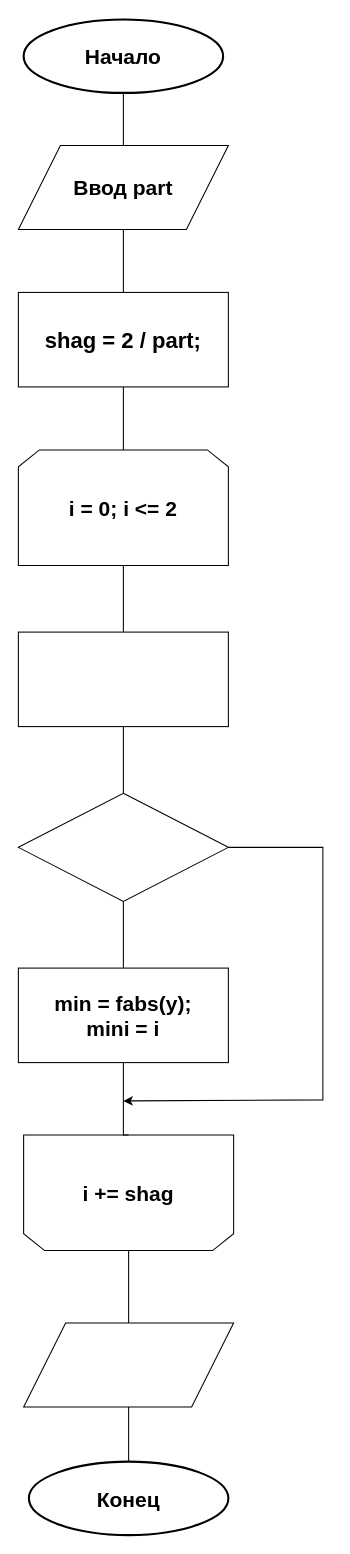
This 350x1554 diagram has some shape labels left out. The centre of each missing label's shape, as x and y in pixels:
fabs(y) < min: pixel 122 846
y = log10(ch(i)) - tanh(i) + 0,5: pixel 122 679
Вывод mini: pixel 128 1364
